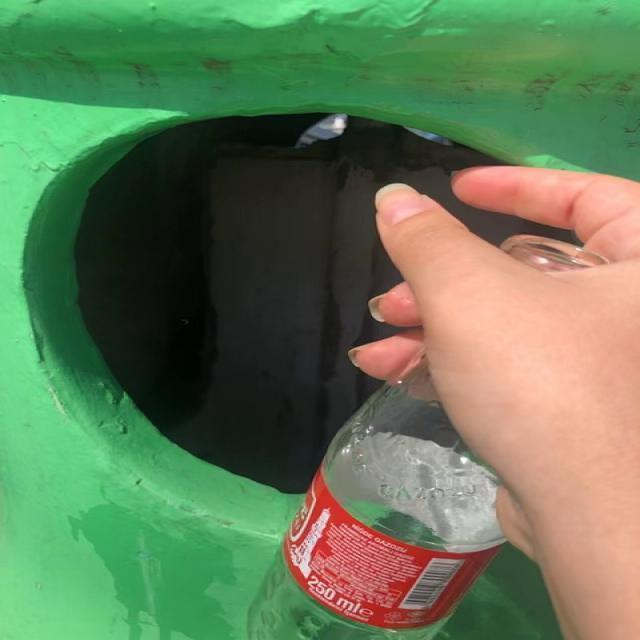cups: (244, 232, 610, 639)
trashbin: (0, 0, 638, 638)
